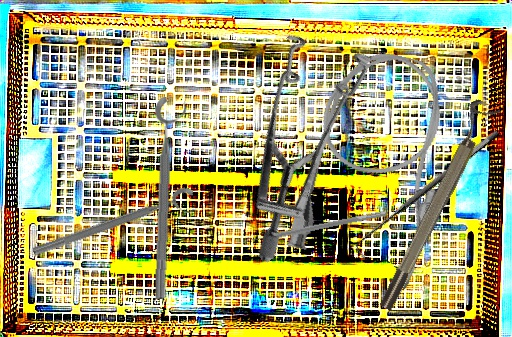Cannula: (283, 40, 474, 293)
Fixation Ring: (367, 97, 502, 313), (30, 184, 200, 270), (148, 96, 190, 300)
Hook Surgical: (348, 127, 509, 261)
Spatula Surgical: (246, 204, 387, 246)
Speculum: (162, 3, 431, 265)
